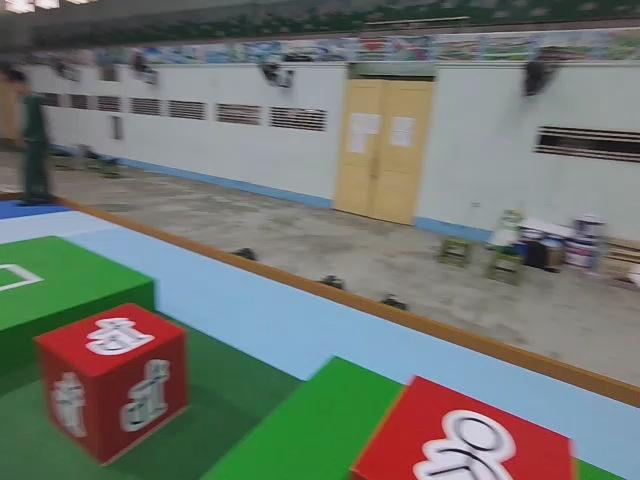R2 Real: (31, 299, 191, 466), (343, 369, 577, 480)
